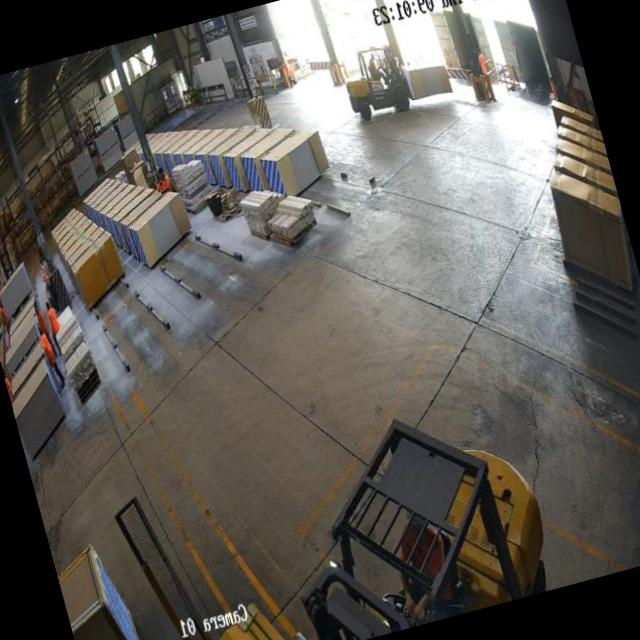driver: (388, 512, 461, 605)
forklift: (232, 378, 564, 640), (335, 39, 412, 129)
person: (36, 323, 66, 394), (42, 298, 62, 336), (159, 165, 171, 192), (476, 46, 488, 73), (152, 172, 165, 194)
